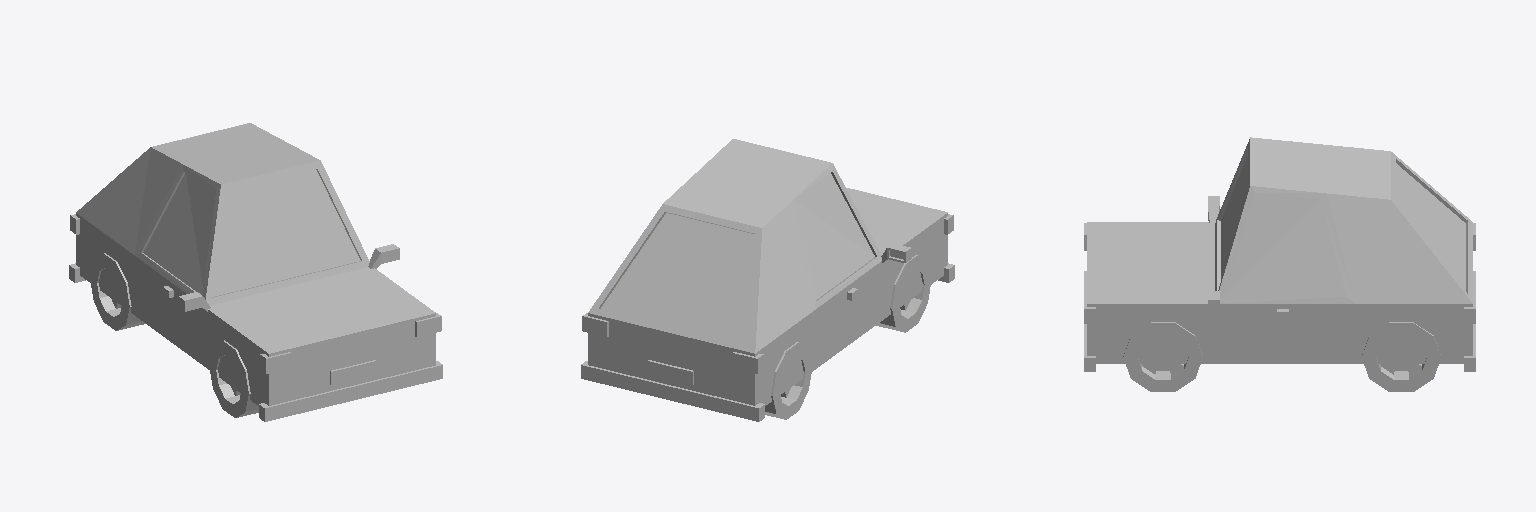
The model's file is Coche10.obj.
The picture shows the model from 3 angles: view 1: azimuth 30°, elevation 25°; view 2: azimuth 150°, elevation 25°; view 3: azimuth 270°, elevation 25°; orthographic projection.
Visible parts, largest first — view 1: Cube; view 2: Cube; view 3: Cube.
Part boxes in pixels (x1,y1,x2,y2): Cube: (69,123,442,421); Cube: (581,139,954,421); Cube: (1084,137,1475,391).
Size of the model in its own units: 2.57 by 2.16 by 4.06.